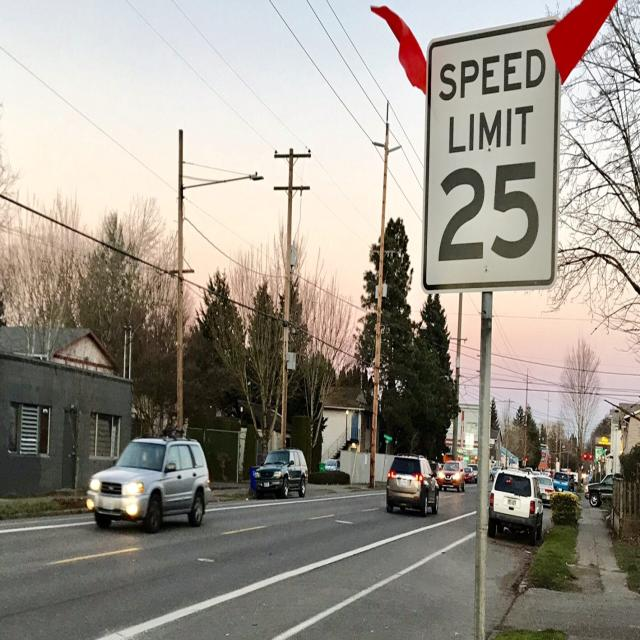speedLimit25: (429, 39, 553, 282)
